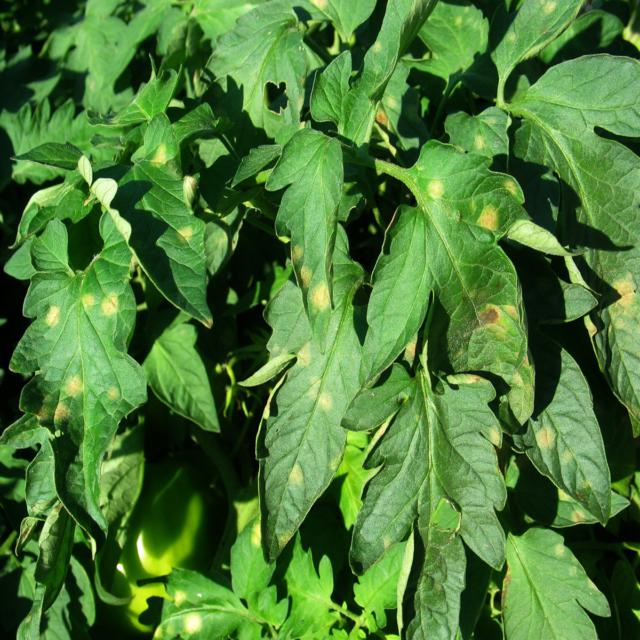Leaf_Mold: (33, 370, 84, 435), (470, 297, 521, 334), (607, 275, 635, 328), (303, 379, 336, 411), (287, 242, 311, 286), (303, 281, 337, 309), (529, 420, 558, 450), (476, 201, 502, 233), (147, 140, 172, 168), (41, 299, 63, 329), (293, 338, 313, 367), (98, 293, 123, 316), (285, 458, 307, 484), (423, 176, 445, 199), (171, 224, 196, 243), (503, 175, 521, 197), (490, 419, 503, 447), (80, 289, 94, 309)
